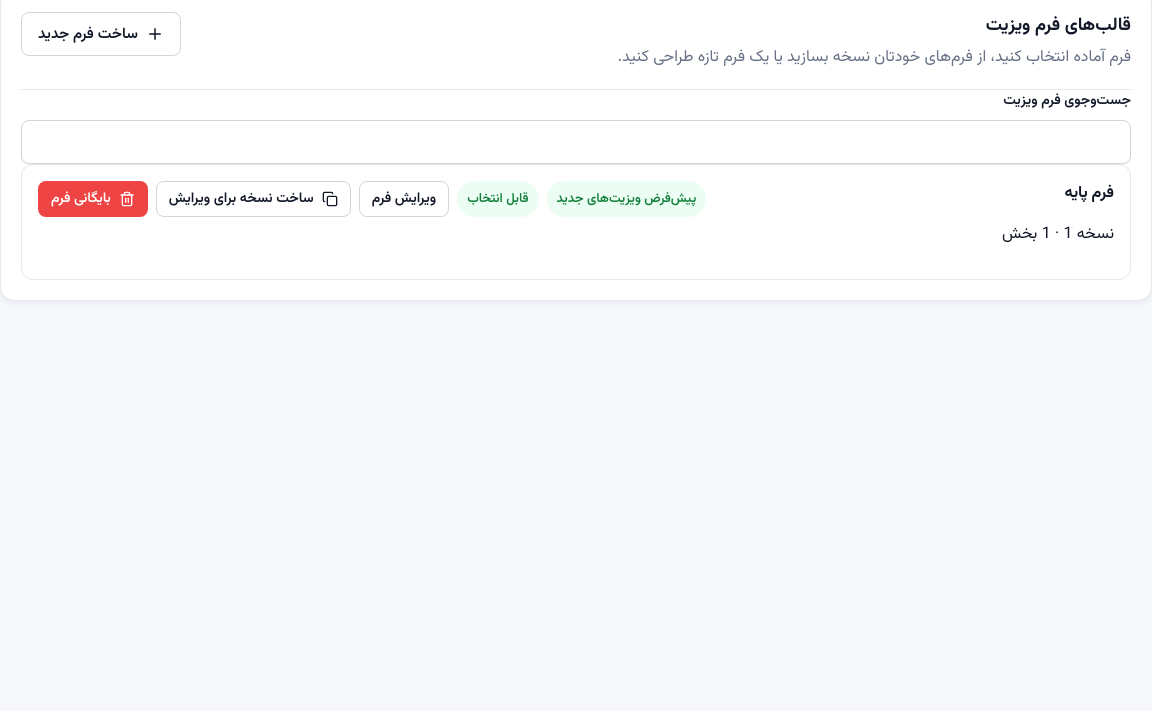
VisitFormTemplatesSection permissions › separates student guidance from coach-only internal notes
This screenshot has width=1152, height=711.
Expected: the text "فرم پایه" is shown, [1064,181,1114,206]
Click the button "ویرایش فرم".
click(404, 199)  # box [359,181,449,217]
(page scrolled)
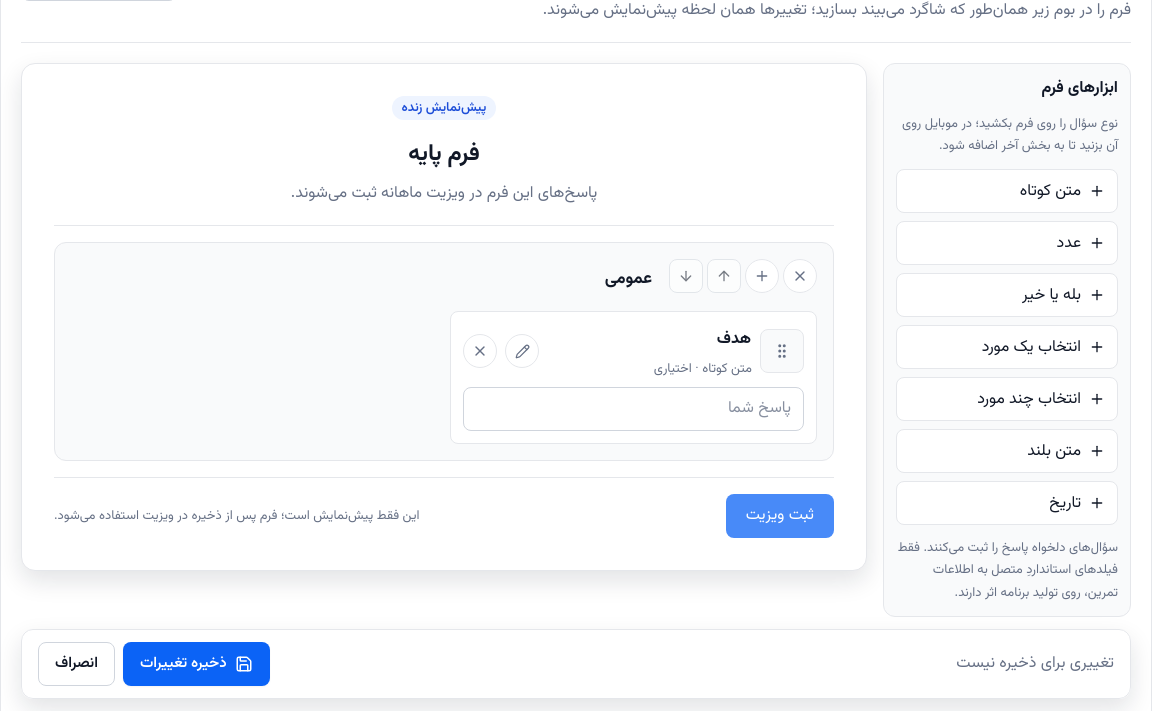
Click the button named "ویرایش سؤال".
click(522, 352)  # box [505,334,539,368]
(page scrolled)
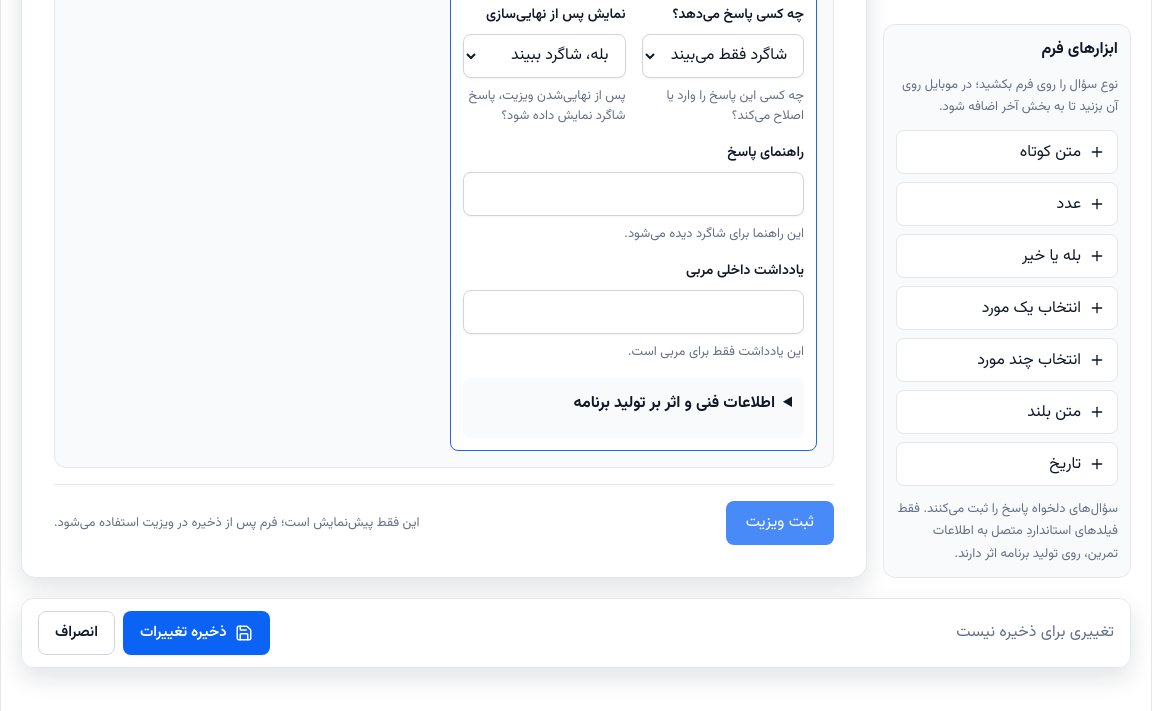
Now the text "راهنمای پاسخ" is shown, box [727,142,804,164]
Now the text "یادداشت داخلی مربی" is shown, box [686,260,804,282]
Now the text "این راهنما برای شاگرد دیده می‌شود." is shown, box [624,224,804,244]
